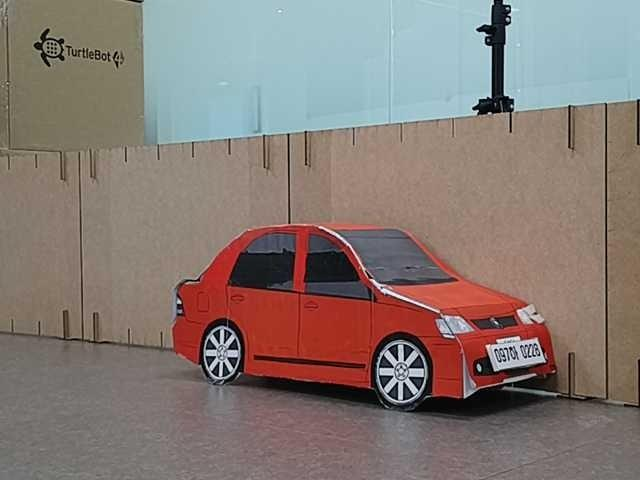car: (170, 221, 558, 410)
id: (487, 339, 544, 366)
